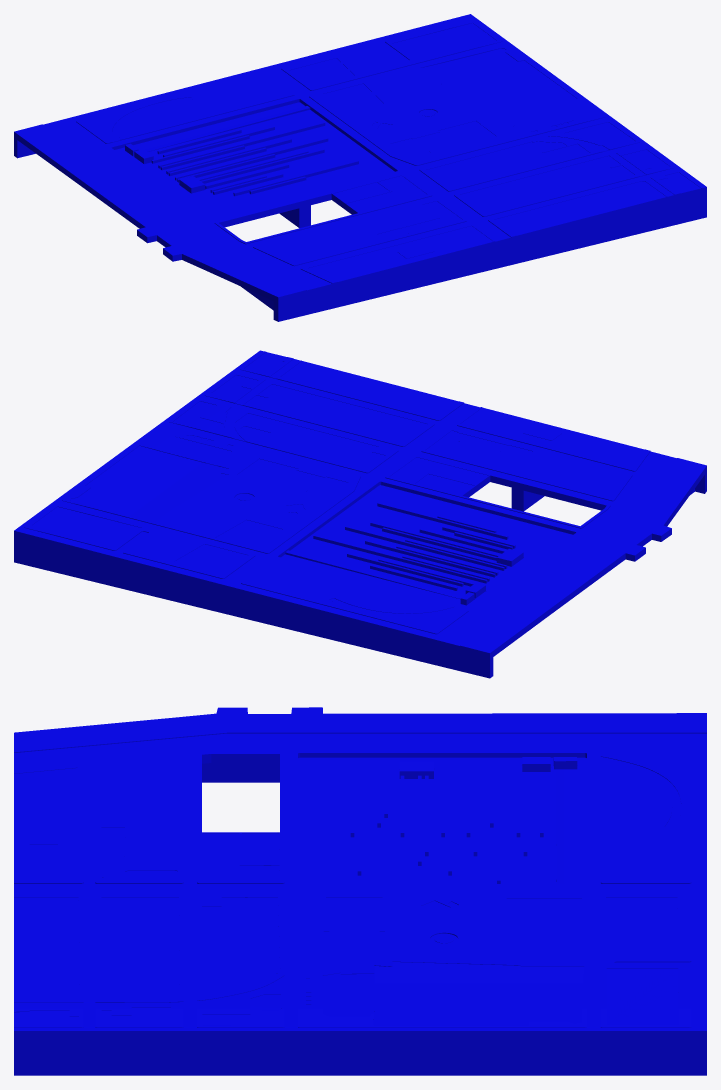
File: 01_site.glb
3 renders of one model, top to bottom at view 1: azimuth 30°, elevation 25°; view 2: azimuth 150°, elevation 25°; view 3: azimuth 270°, elevation 25°, orthographic. The views are drawn at different scales.
Bounding box in the file's own units: 1.02 × 0.0644 × 0.9021.
